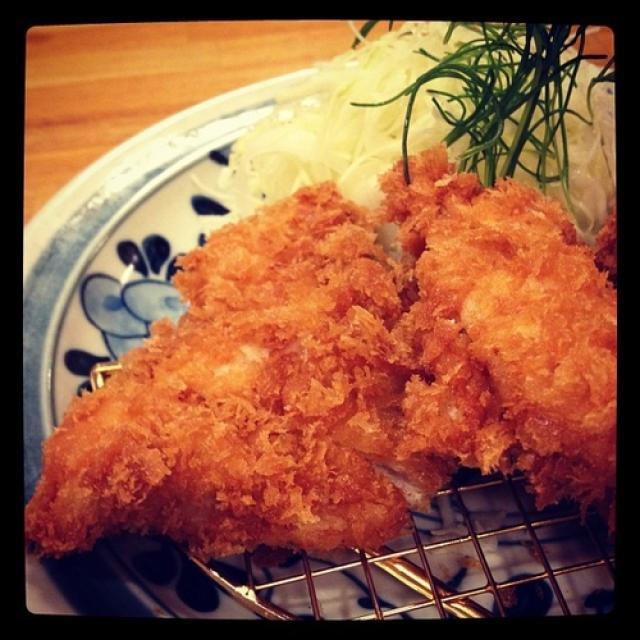鸡肉料理 含炸鸡: (48, 23, 628, 623)
